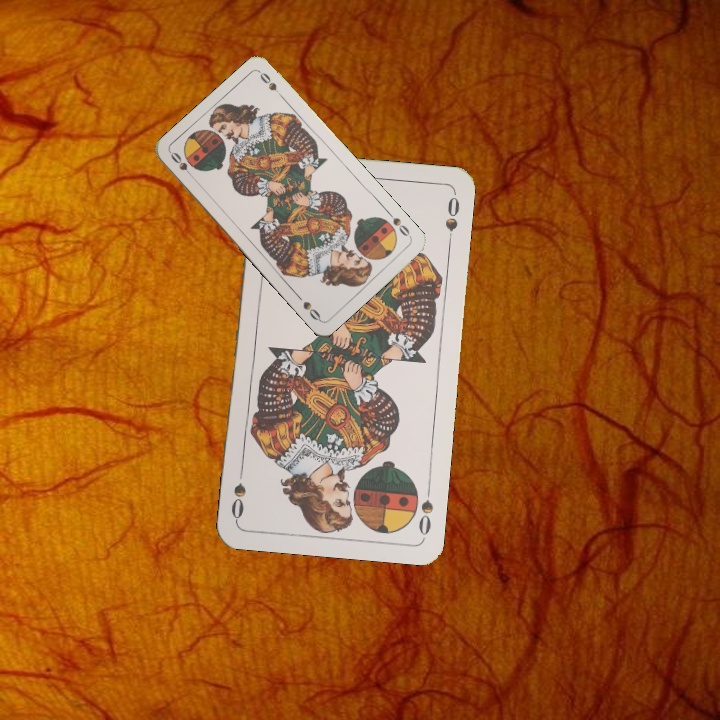SO: (415, 480, 436, 538), (166, 148, 198, 182), (383, 207, 414, 241)
